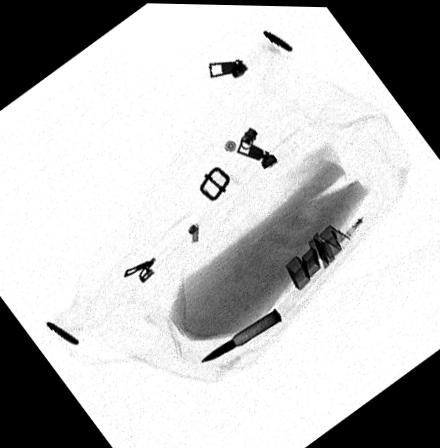Bullet: (197, 306, 282, 363)
